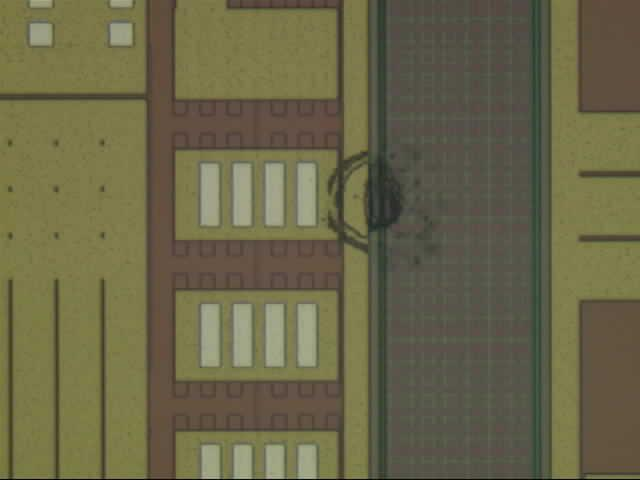PO CONTAMINATION: (319, 142, 456, 276)
